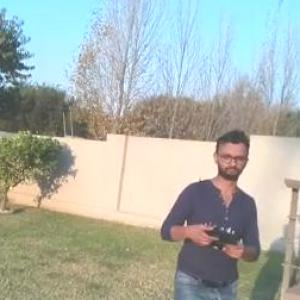follow: (157, 121, 267, 299)
